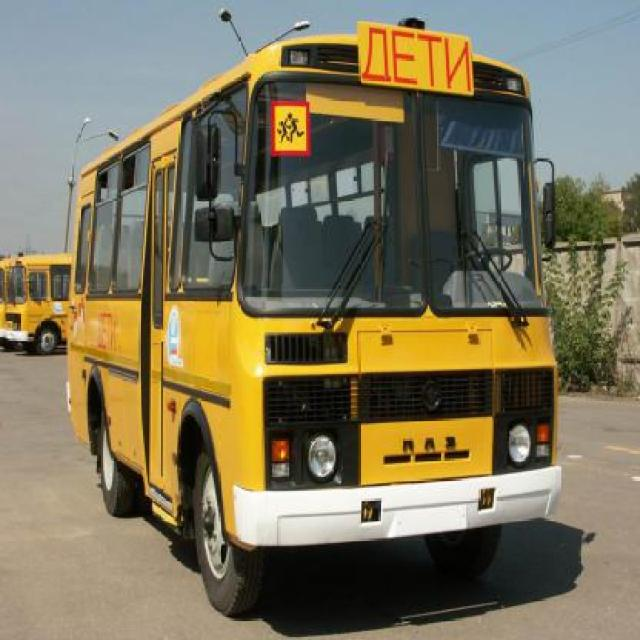bus: (70, 35, 556, 617)
